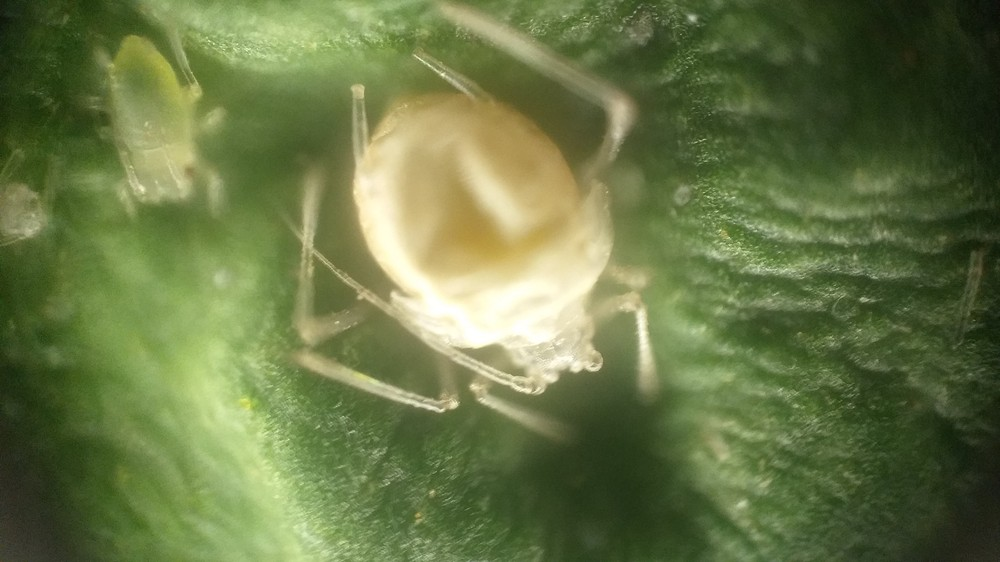Pulgon: (277, 21, 684, 458), (68, 33, 242, 244)
